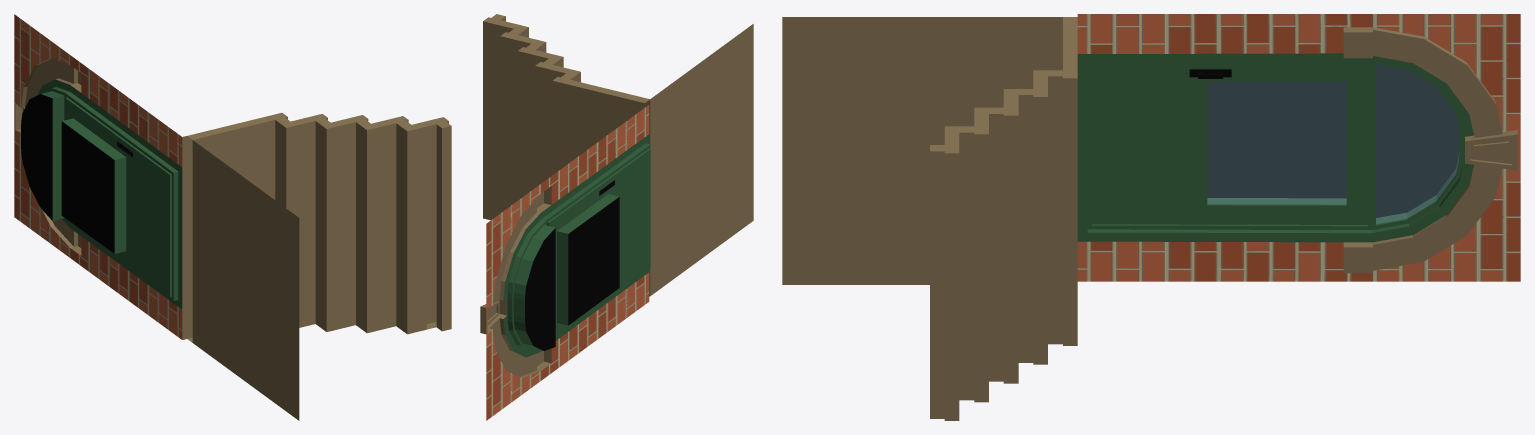
The model's file is wall05.fbx.
3 views of the same model, side by side, from view 1: azimuth 30°, elevation 25°; view 2: azimuth 150°, elevation 25°; view 3: azimuth 270°, elevation 25° (orthographic). The views are drawn at different scales.
Parts seen in each view (by area): view 1: Cube; view 2: Cube; view 3: Cube.
Boxes of the visible parts, box(x1,y1,x2,y2) form: Cube: box(14, 14, 451, 420); Cube: box(480, 14, 753, 420); Cube: box(782, 14, 1520, 420).
Bounding box in the file's own units: 242 × 200 × 500.
